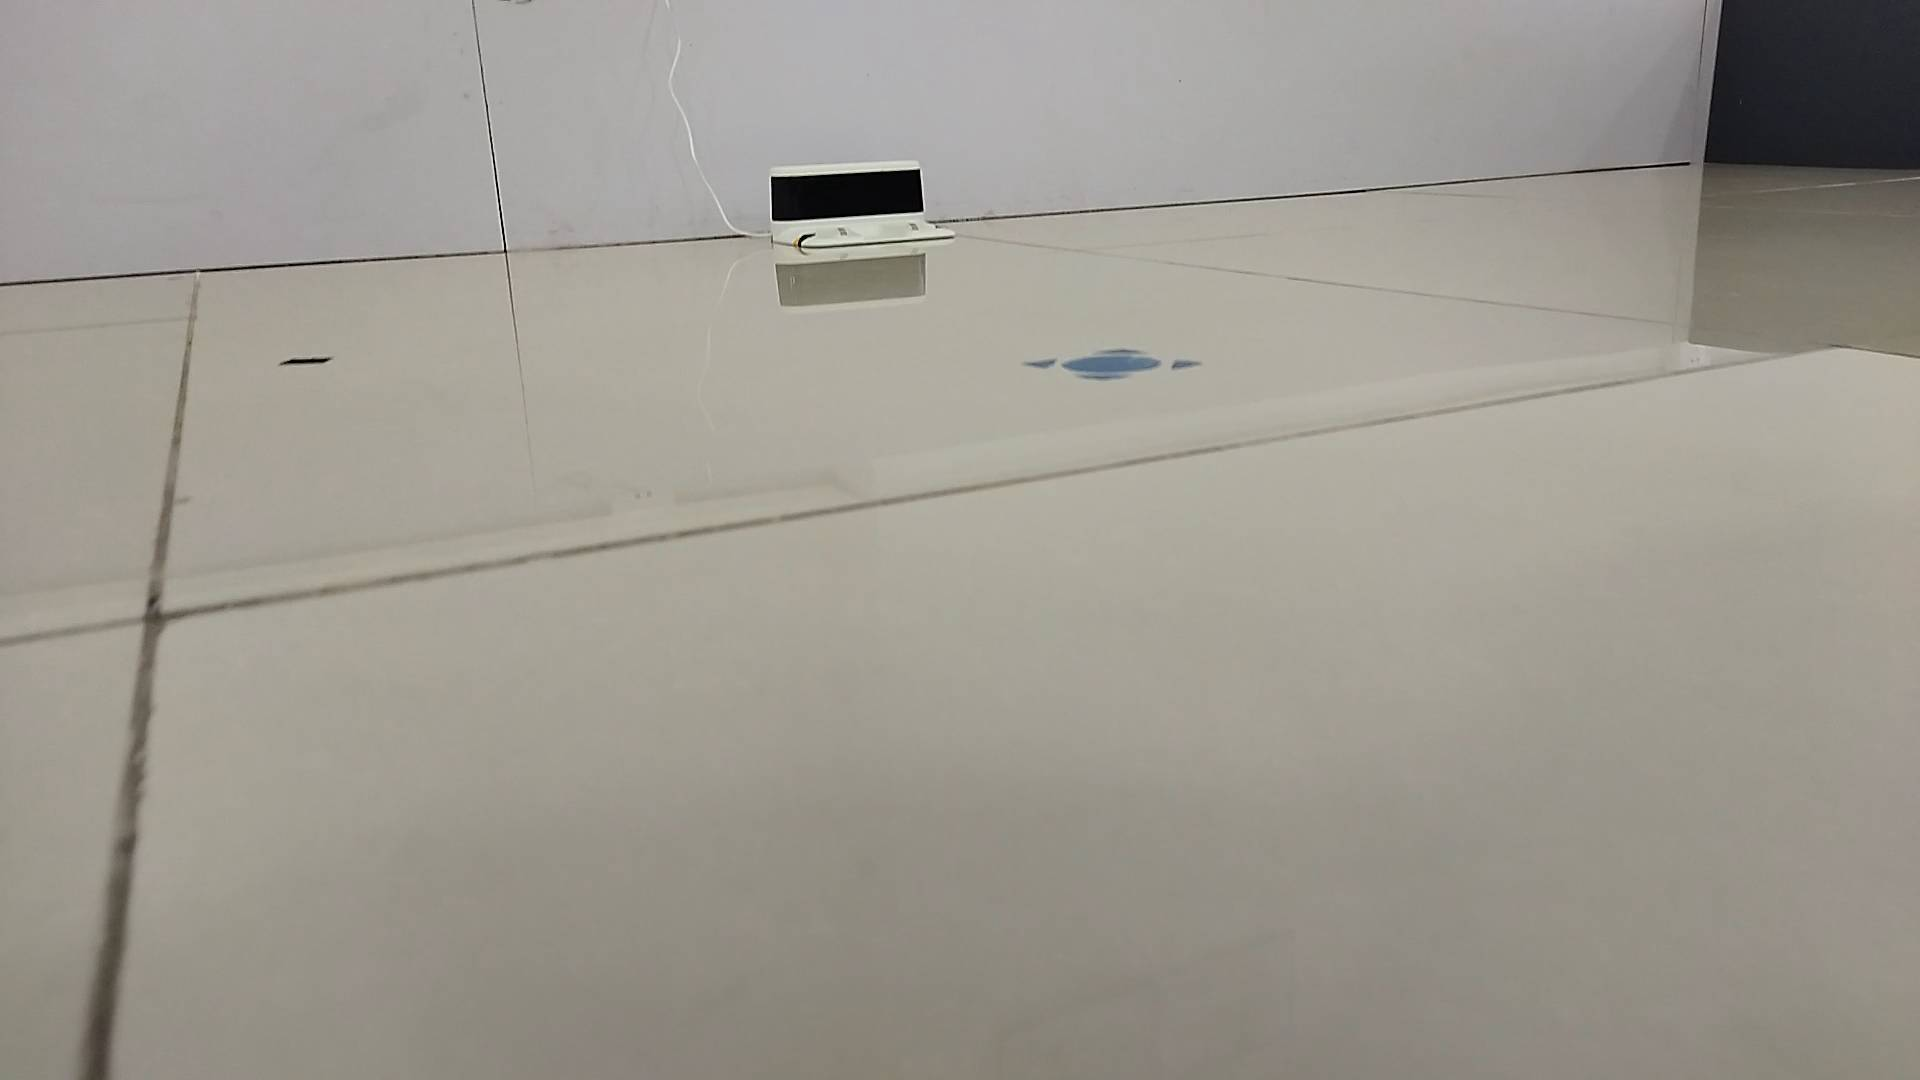recharge seat: (771, 162, 955, 252)
